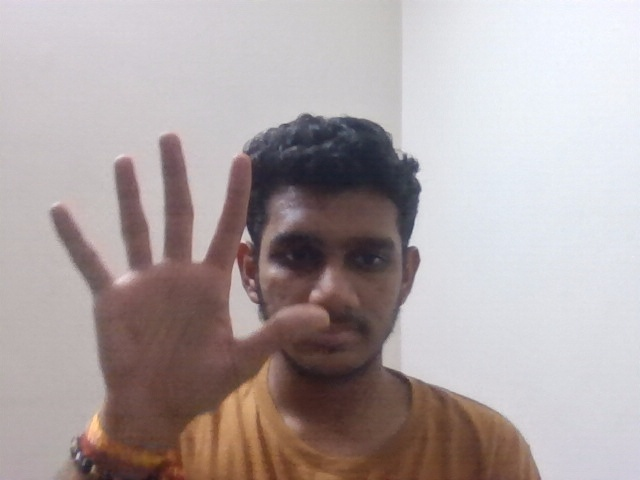hello: (45, 129, 329, 435)
